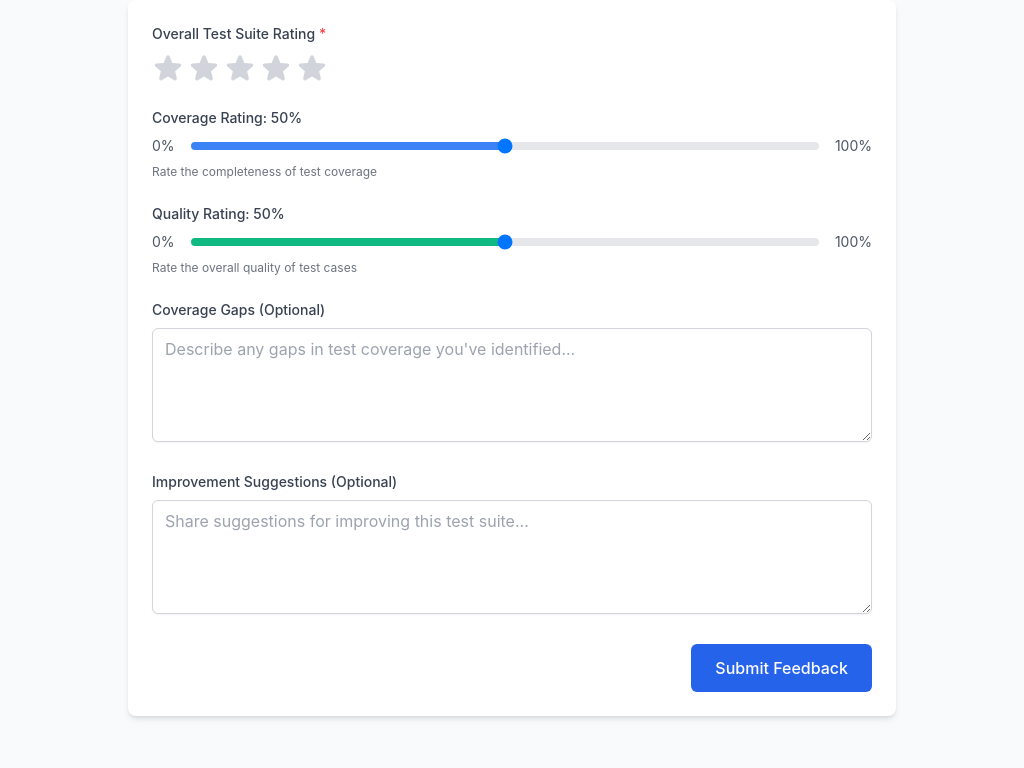
Test: TestSuiteFeedback Component › Form Submission › should submit complete feedback successfully
The width and height of the screenshot is (1024, 768).
Note: Fill form
Click the button named "star" at (312, 68), box [296,52,328,84]
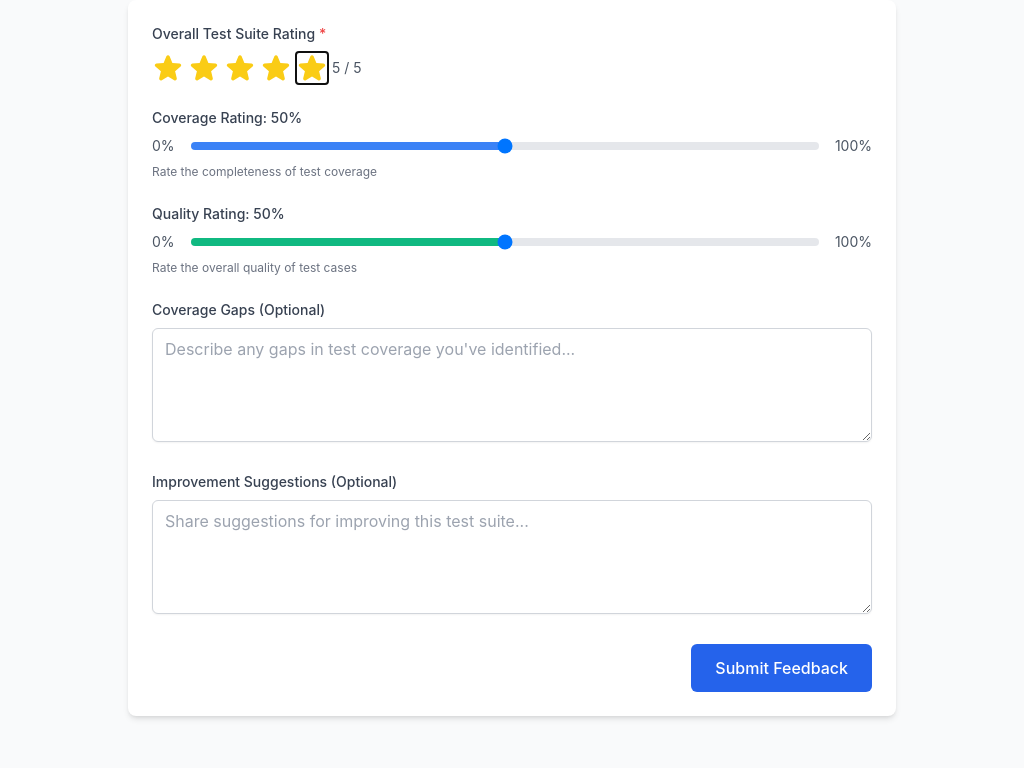
Set the slider labelled "Coverage Rating: 50%" to "85" at (719, 146), box [191,142,819,150]
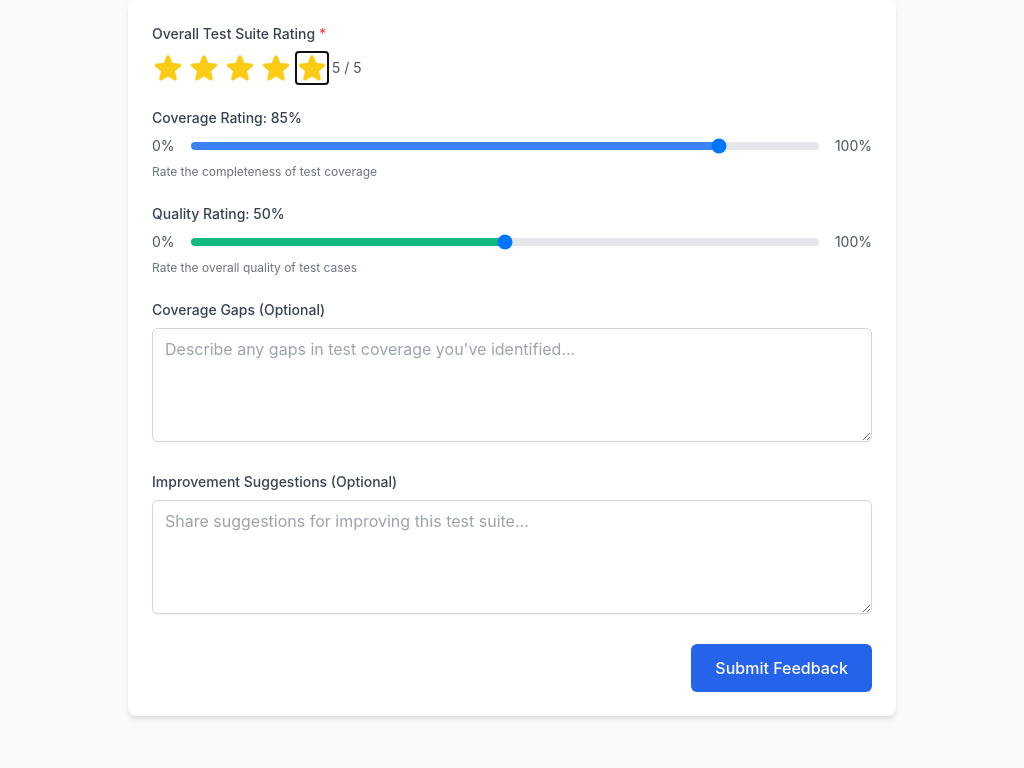
Set the slider labelled "Quality Rating: 50%" to "90" at (750, 242), box [191,238,819,246]
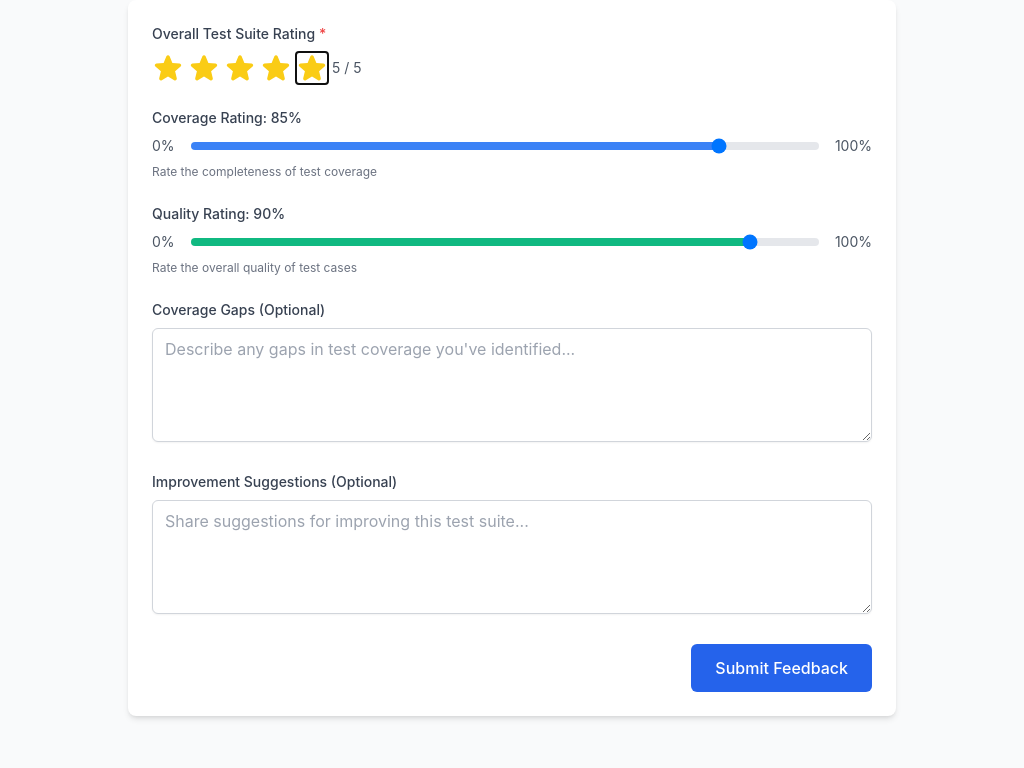
Type "Need more negative tests" into the text box with placeholder "Describe any gaps in test coverage you've identified..." at (512, 385), box [152,328,872,442]
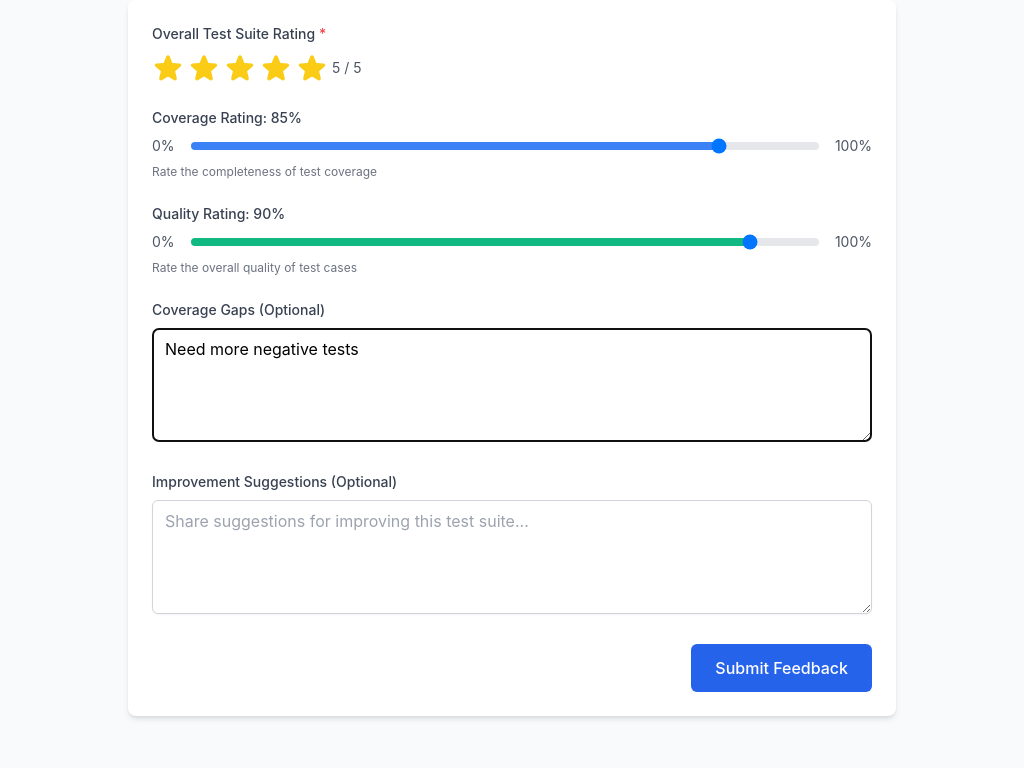
Type "Add integration tests" into the text box with placeholder "Share suggestions for improving this test suite..." at (512, 557), box [152,500,872,614]
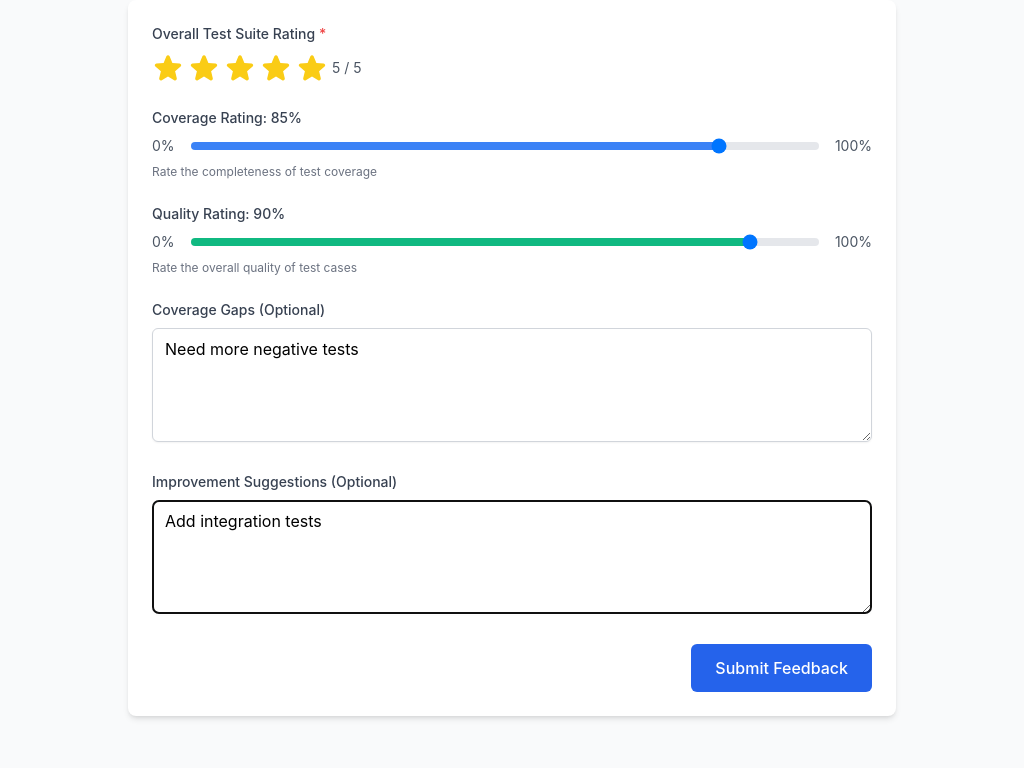
Click the button "Submit Feedback" at (782, 668), box [691,644,872,692]
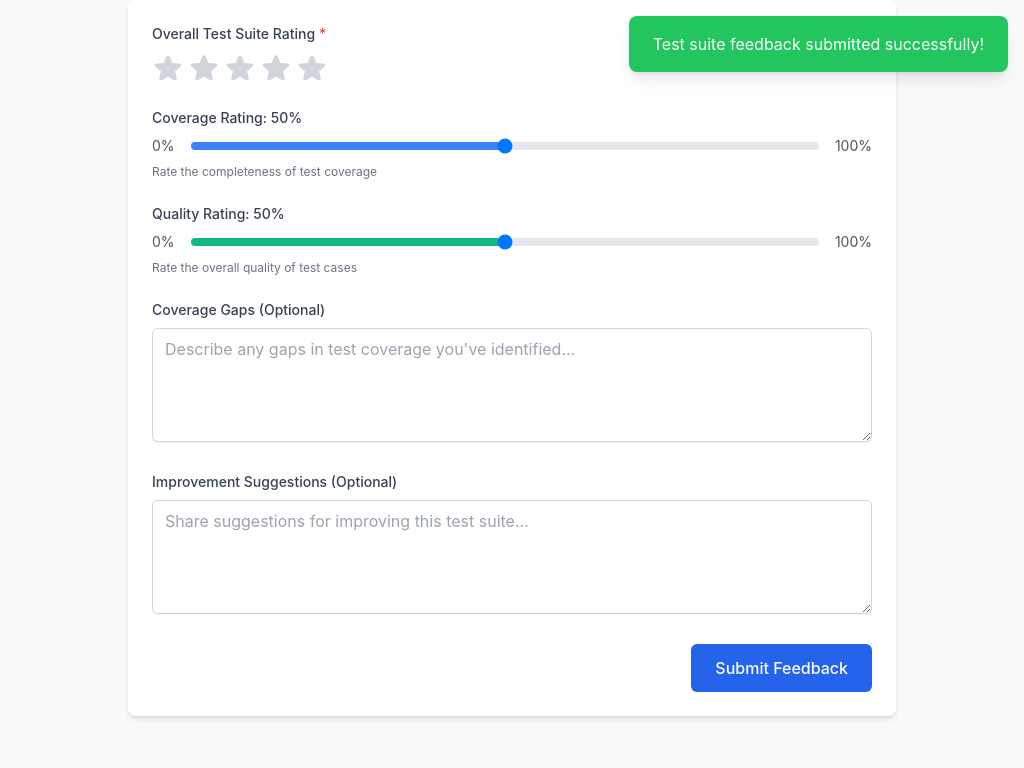
Check: the text "Test suite feedback submitted successfully!" is shown, box [629,16,1008,72]
